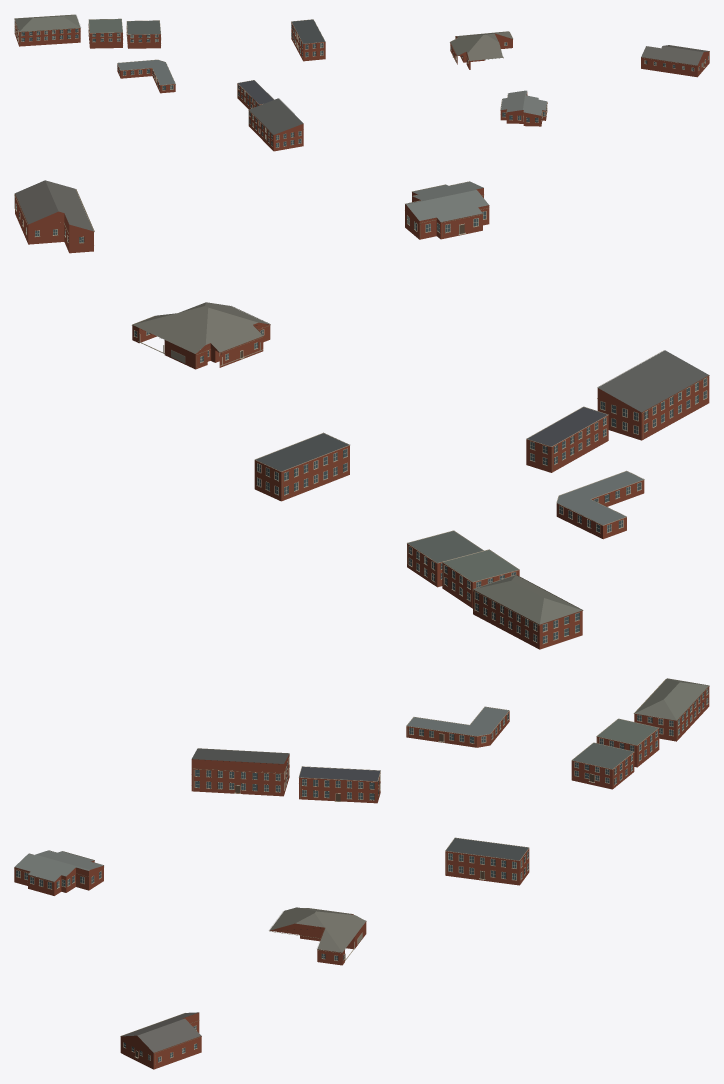
The picture shows the model from 3 angles, top to bottom: view 1: azimuth 30°, elevation 25°; view 2: azimuth 150°, elevation 25°; view 3: azimuth 270°, elevation 25°; orthographic projection. The views are drawn at different scales.
Parts seen in each view (by area): view 1: -3_2_598392601_0; view 2: -3_2_598392601_0; view 3: -3_2_598392601_0.
Part boxes in pixels (bbox=[...]): -3_2_598392601_0: bbox=[14, 14, 709, 151]; -3_2_598392601_0: bbox=[14, 180, 709, 649]; -3_2_598392601_0: bbox=[14, 678, 709, 1069].
Size of the model in its own units: 286 by 21.96 by 236.
